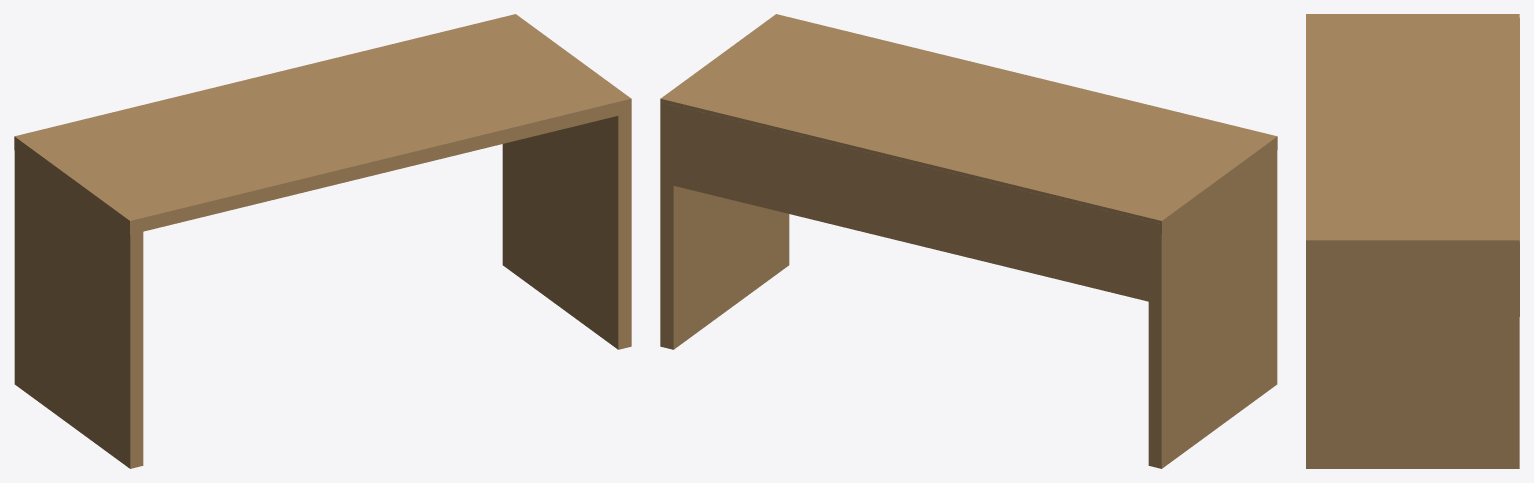
Rendered from workplace2.fbx.
3 views of the same model, side by side, from view 1: azimuth 30°, elevation 25°; view 2: azimuth 150°, elevation 25°; view 3: azimuth 270°, elevation 25° (orthographic). The views are drawn at different scales.
Parts seen in each view (by area): view 1: Cube.003; view 2: Cube.003; view 3: Cube.003.
Boxes of the visible parts, x1,y1,x2,y2 form: Cube.003: (14, 14, 631, 468); Cube.003: (660, 14, 1277, 468); Cube.003: (1306, 14, 1519, 468).
Size of the model in its own units: 551 by 260 by 220.
